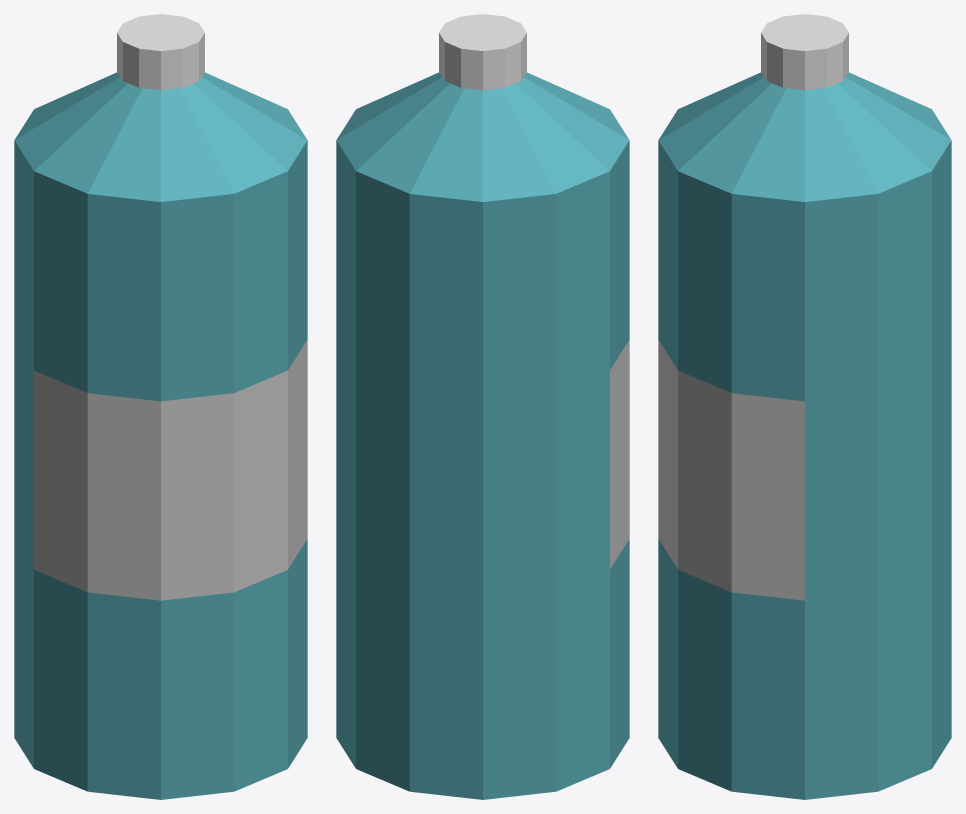
Rendered from Bottle 1.fbx.
3 renders of one model, left to right at view 1: azimuth 30°, elevation 25°; view 2: azimuth 150°, elevation 25°; view 3: azimuth 270°, elevation 25°, orthographic.
Parts seen in each view (by area): view 1: Bottle 1, Lid; view 2: Bottle 1, Lid; view 3: Bottle 1, Lid.
Boxes of the visible parts, bbox=[...] form: Bottle 1: bbox=[14, 72, 307, 799]; Lid: bbox=[117, 14, 204, 90]; Bottle 1: bbox=[336, 72, 629, 799]; Lid: bbox=[439, 14, 526, 90]; Bottle 1: bbox=[658, 72, 951, 799]; Lid: bbox=[761, 14, 848, 90].
Size of the model in its own units: 0.8 by 2.12 by 0.8.
